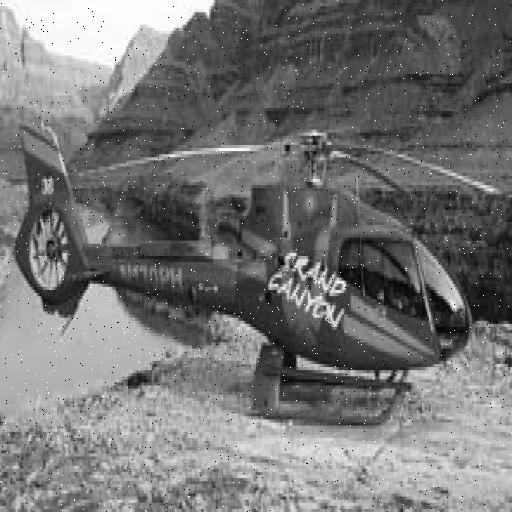helicopter: (1, 41, 510, 473)
